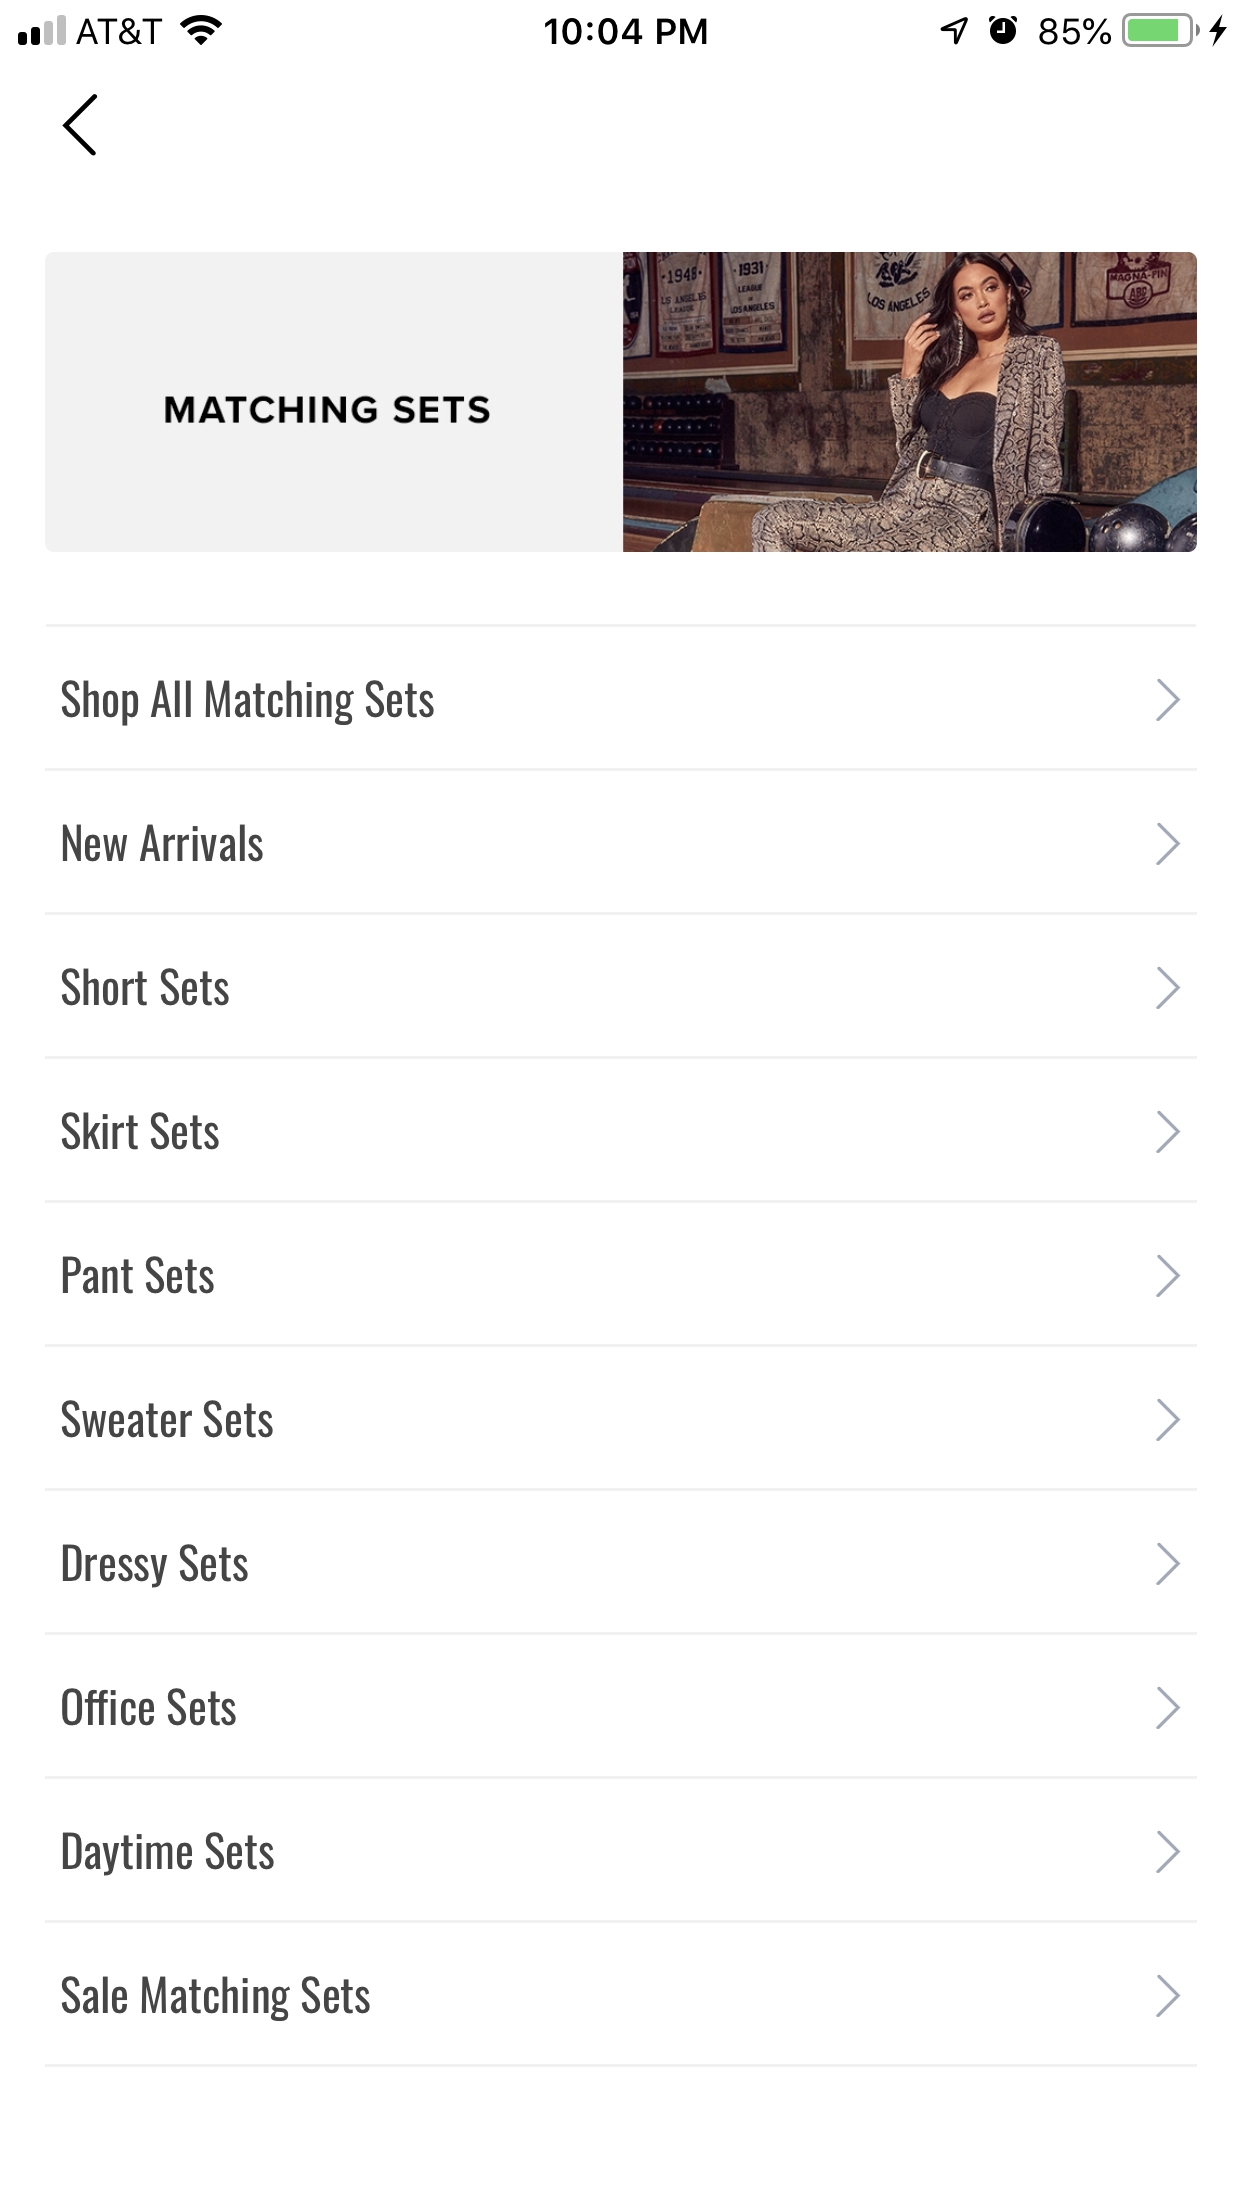Icon: (62, 94, 99, 158), (1156, 1974, 1181, 2018), (1156, 1686, 1181, 1730), (1156, 1542, 1181, 1586), (1156, 1254, 1181, 1298), (1156, 1110, 1181, 1154), (1156, 968, 1181, 1011), (1156, 1830, 1181, 1873), (1156, 1400, 1181, 1442), (1156, 823, 1181, 866), (1156, 679, 1181, 722)
Image: (623, 253, 1198, 554)
Text: (61, 679, 435, 726), (62, 1974, 372, 2021), (64, 1830, 276, 1877), (165, 396, 491, 425), (64, 1542, 249, 1589), (62, 1400, 274, 1439), (62, 823, 264, 863), (62, 1686, 238, 1727), (62, 968, 231, 1007), (61, 1112, 220, 1151), (64, 1256, 215, 1295)
UpperTaskBar: (2, 2, 1242, 49)
